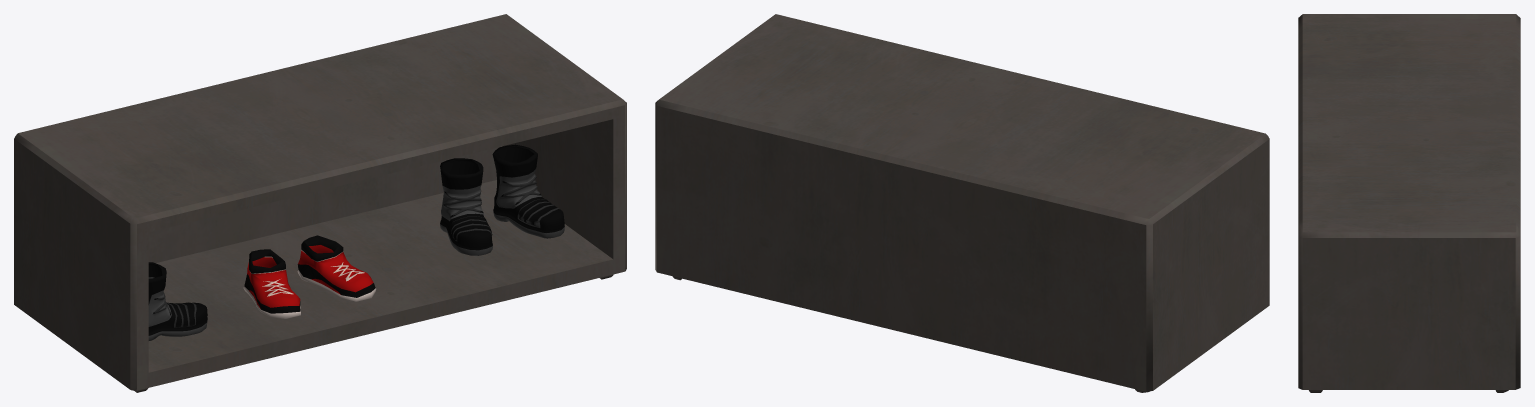
Rendered from wooden_shelf_shoes.glb.
3 views of the same model, side by side, from view 1: azimuth 30°, elevation 25°; view 2: azimuth 150°, elevation 25°; view 3: azimuth 270°, elevation 25° (orthographic). The views are drawn at different scales.
Parts seen in each view (by area): view 1: WoodenShelfShoes; view 2: WoodenShelfShoes; view 3: WoodenShelfShoes.
Boxes of the visible parts, x1=… form: WoodenShelfShoes: x1=14, y1=14, x2=626, y2=392; WoodenShelfShoes: x1=655, y1=14, x2=1269, y2=392; WoodenShelfShoes: x1=1298, y1=14, x2=1520, y2=392.
Size of the model in its own units: 1.76 by 0.6072 by 0.7452.
Materials: 8 (1 with a texture image).
